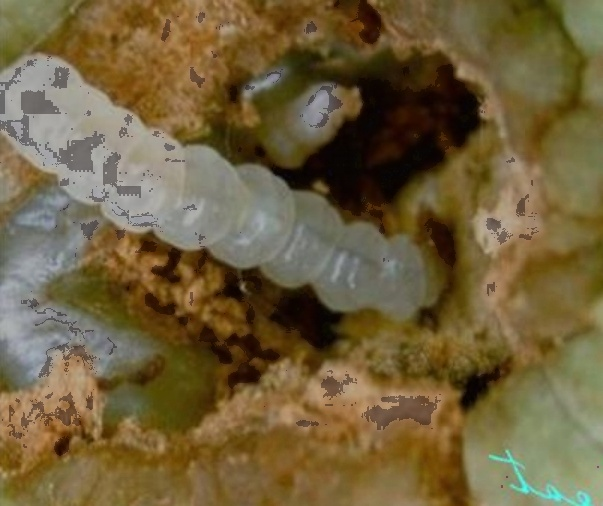Stink_Bug: (11, 60, 441, 311)
